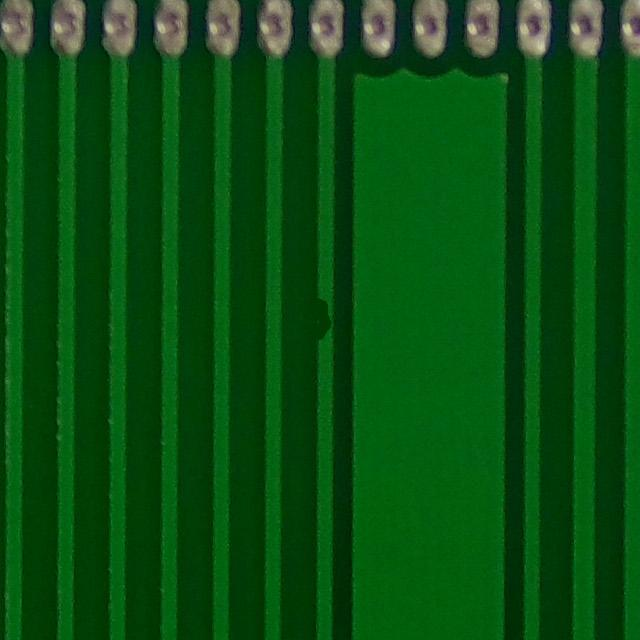mouse_bite: (294, 282, 347, 359)
